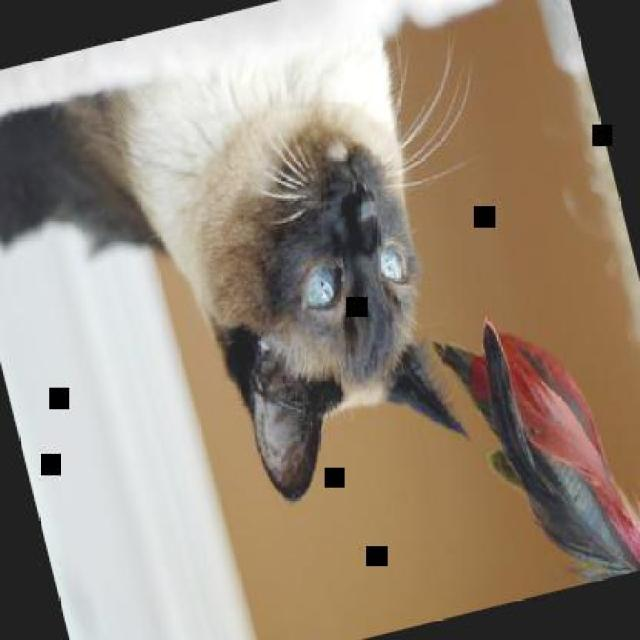cat: (0, 15, 485, 568)
